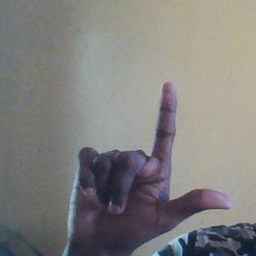L: (68, 81, 233, 248)
